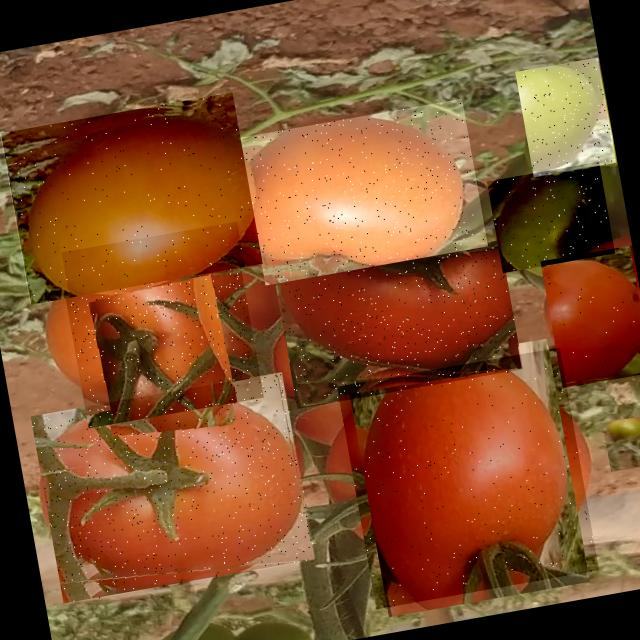Ripe Tomato: (336, 347, 598, 609), (31, 371, 316, 604), (0, 91, 262, 304), (239, 98, 488, 285), (58, 222, 264, 428), (274, 240, 522, 408), (540, 245, 640, 388)
Unripe Tomato: (486, 162, 614, 272), (515, 57, 616, 177), (602, 412, 640, 471)
